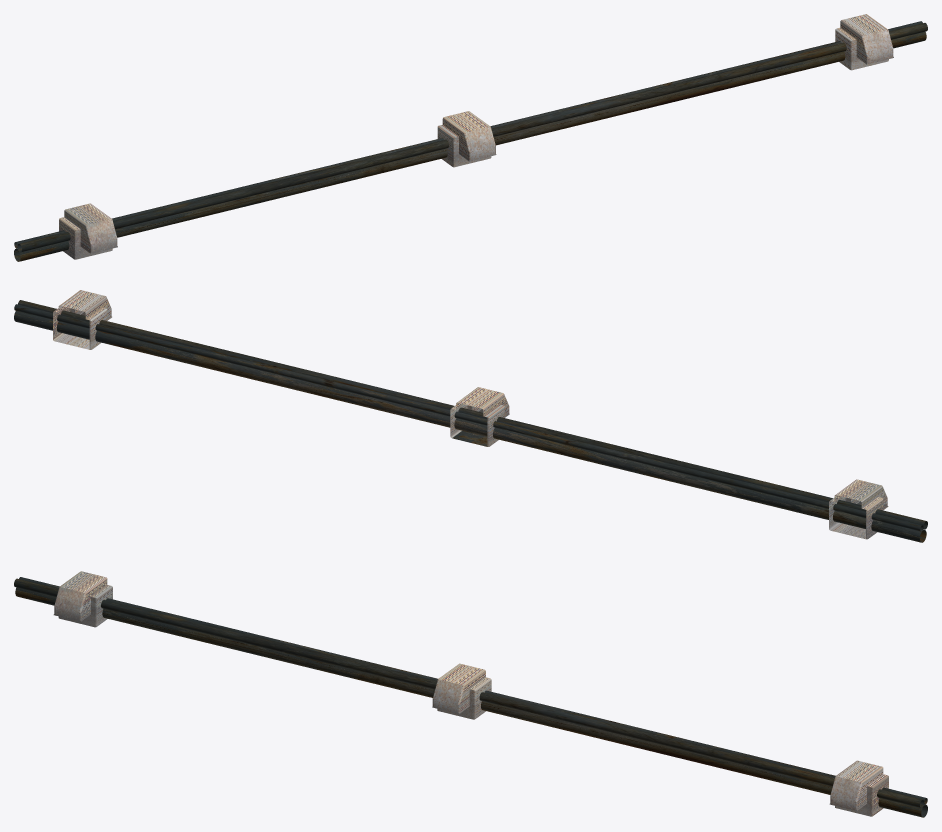
File: Pipes_Horizontal.FBX
3 views of the same model, one above another, from view 1: azimuth 30°, elevation 25°; view 2: azimuth 150°, elevation 25°; view 3: azimuth 330°, elevation 25° (orthographic).
Visible parts, largest first — view 1: Hallway_Pipes_Horizontal, vents; view 2: Hallway_Pipes_Horizontal, vents; view 3: Hallway_Pipes_Horizontal, vents.
Boxes of the visible parts, bbox=[...] form: Hallway_Pipes_Horizontal: bbox=[14, 21, 927, 261]; vents: bbox=[59, 14, 893, 259]; Hallway_Pipes_Horizontal: bbox=[14, 300, 927, 542]; vents: bbox=[53, 290, 888, 539]; Hallway_Pipes_Horizontal: bbox=[14, 577, 927, 817]; vents: bbox=[53, 571, 888, 816].
Bounding box in the file's own units: 2145 × 83.52 × 109.
